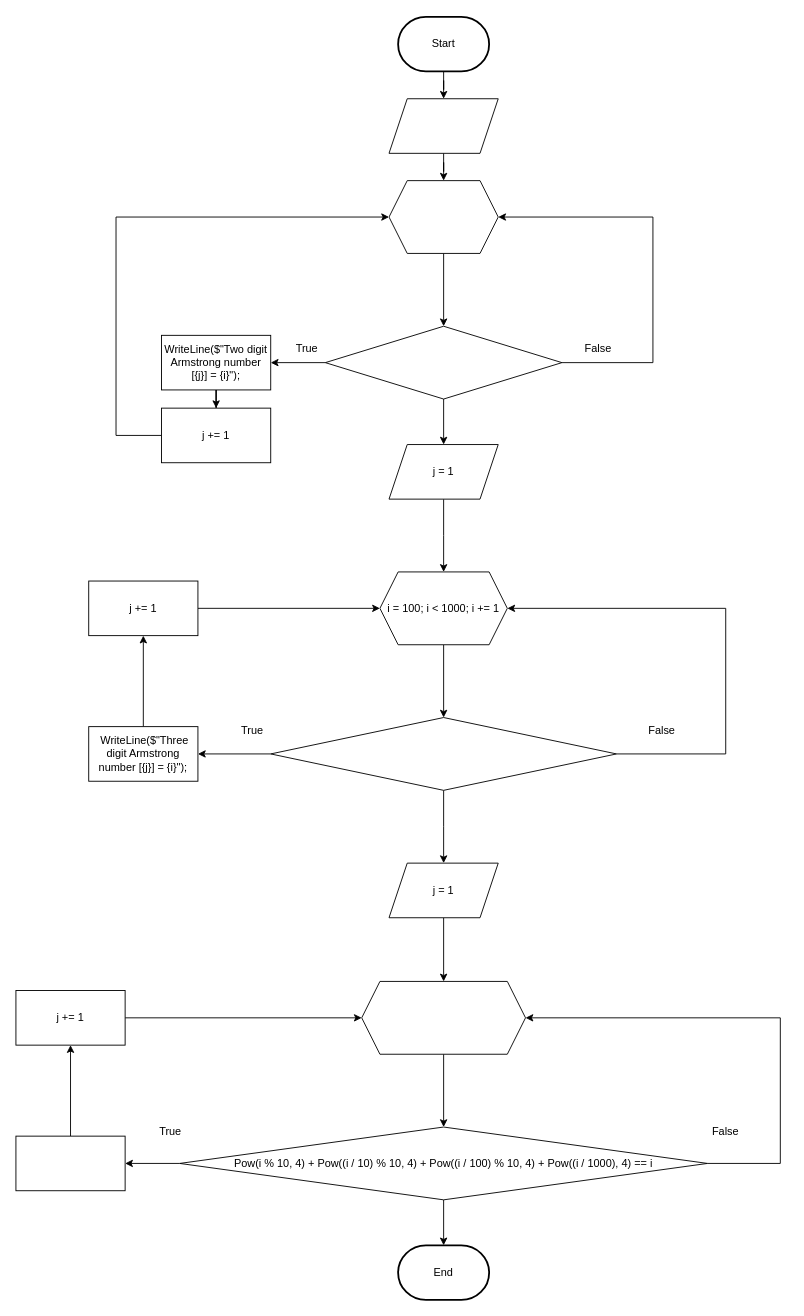
The diagram is 804 pixels wide and 1316 high, and some of its shapes have lost their labels. Each missing label, with the centre of its shape:
i = 10; i < 100; i += 1: point 443,216
int i = 1000; i < 10000; i += 1: point 443,1017
int j = 1: point 443,125
Pow(i % 10, 2) + Pow(i / 10, 2) == i: point 443,362
Pow(i % 10, 3) + Pow((i / 10) % 10, 3) + Pow(i / 100, 3) == i: point 443,753
WriteLine($"Four digit Armstrong number [{j}] = {i}");: point 70,1163
